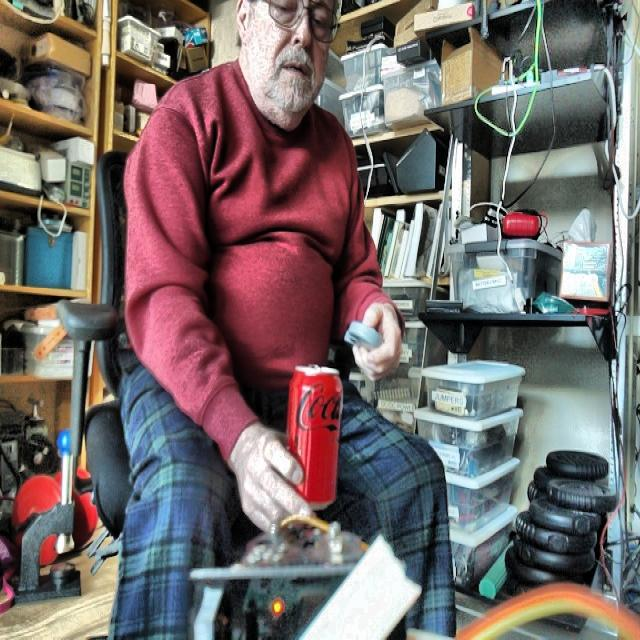Can: (286, 366, 342, 509)
